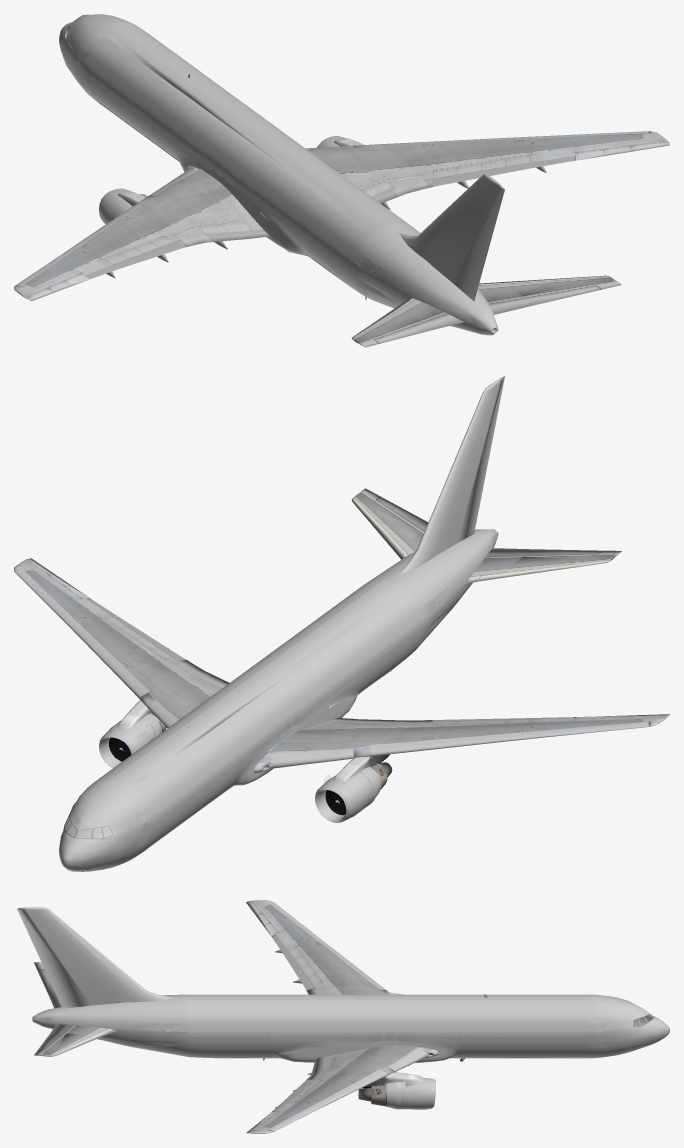
3 renders of one model, top to bottom at view 1: azimuth 30°, elevation 25°; view 2: azimuth 150°, elevation 25°; view 3: azimuth 270°, elevation 25°, orthographic. The views are drawn at different scales.
Visible parts, largest first — view 1: Fuselage, RWing_002, LWing_001, VStab_001, VRudder, RHStab, LHStab_001, RHelev, Glass_Fuselage, flap_ext_R, LHStab, flapl (+6 smaller); view 2: Fuselage, RWing_002, LWing_001, VStab_001, LFflapwing2, LHStab_001, RHStab, RFflapwing2, VRudder, LCapaturbofan_004, Glass_Fuselage, LFflapwing1 (+2 smaller); view 3: Fuselage, VStab_001, RWing_002, LWing_001, VRudder, Glass_Fuselage, RHStab, RFflapwing2, RCapaturbofan_003, LFflapwing2, RCapaturbofan_001, flap_ext_L (+2 smaller).
Boxes of the visible parts, x1=… form: Fuselage: x1=59, y1=14, x2=498, y2=335; RWing_002: x1=307, y1=131, x2=669, y2=189; LWing_001: x1=14, y1=165, x2=269, y2=300; VStab_001: x1=399, y1=174, x2=499, y2=301; VRudder: x1=452, y1=186, x2=504, y2=297; RHStab: x1=478, y1=275, x2=621, y2=302; LHStab_001: x1=351, y1=297, x2=463, y2=347; RHelev: x1=488, y1=285, x2=601, y2=314; Glass_Fuselage: x1=87, y1=67, x2=357, y2=269; flap_ext_R: x1=431, y1=156, x2=574, y2=186; LHStab: x1=375, y1=313, x2=462, y2=343; flapl: x1=193, y1=223, x2=266, y2=242; Fuselage: x1=59, y1=529, x2=498, y2=871; RWing_002: x1=14, y1=558, x2=221, y2=721; LWing_001: x1=253, y1=714, x2=669, y2=773; VStab_001: x1=399, y1=378, x2=500, y2=574; LFflapwing2: x1=370, y1=721, x2=648, y2=756; LHStab_001: x1=466, y1=548, x2=621, y2=583; RHStab: x1=351, y1=488, x2=423, y2=559; RFflapwing2: x1=15, y1=568, x2=149, y2=698; VRudder: x1=458, y1=377, x2=504, y2=540; LCapaturbofan_004: x1=315, y1=774, x2=370, y2=822; Glass_Fuselage: x1=157, y1=617, x2=425, y2=819; LFflapwing1: x1=270, y1=749, x2=353, y2=768; Fuselage: x1=32, y1=994, x2=669, y2=1062; VStab_001: x1=25, y1=907, x2=173, y2=1008; RWing_002: x1=246, y1=1045, x2=438, y2=1133; LWing_001: x1=246, y1=900, x2=391, y2=994; VRudder: x1=17, y1=909, x2=90, y2=1005; Glass_Fuselage: x1=185, y1=1031, x2=584, y2=1036; RHStab: x1=34, y1=1025, x2=117, y2=1056; RFflapwing2: x1=269, y1=1069, x2=387, y2=1131; RCapaturbofan_003: x1=405, y1=1077, x2=435, y2=1109; LFflapwing2: x1=269, y1=902, x2=385, y2=989; RCapaturbofan_001: x1=386, y1=1082, x2=405, y2=1109; flap_ext_L: x1=272, y1=935, x2=314, y2=990.
Size of what is drawn, in the model's own units: 46.31 by 55.2 by 15.12.
